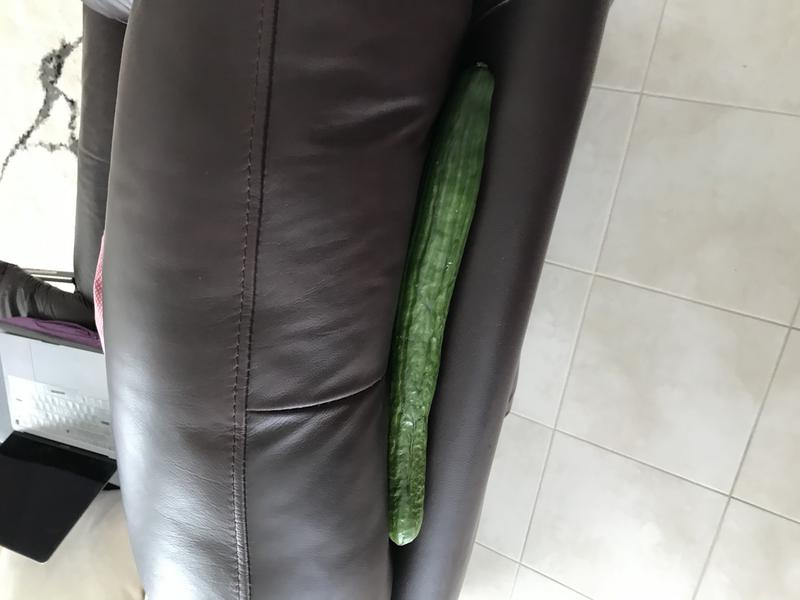cucumber: (373, 46, 499, 561)
